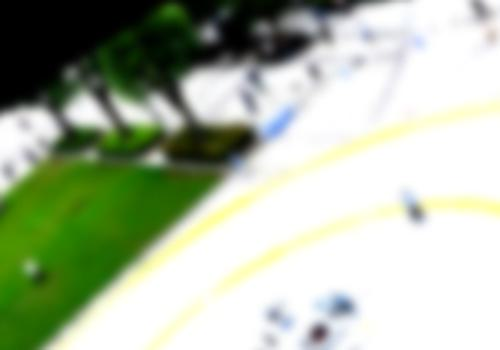Apron: (143, 194, 496, 350)
